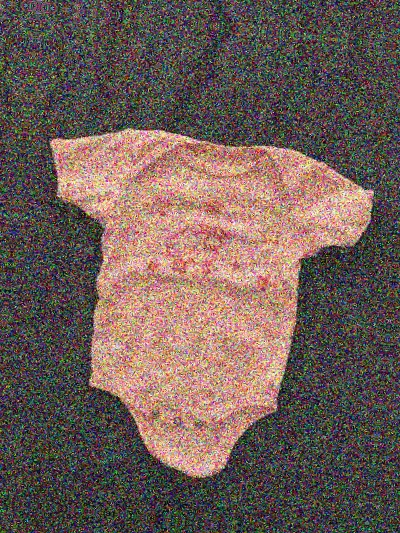Body: (9, 98, 391, 492), (390, 140, 400, 533), (0, 55, 9, 450)
